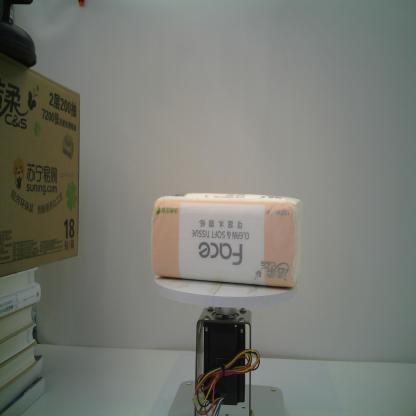Tissue: (146, 186, 302, 289)
